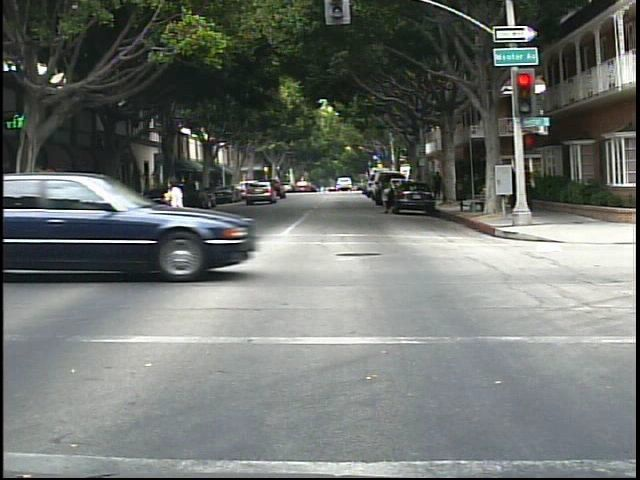person: (162, 172, 196, 213), (373, 172, 398, 216), (433, 168, 447, 201)
